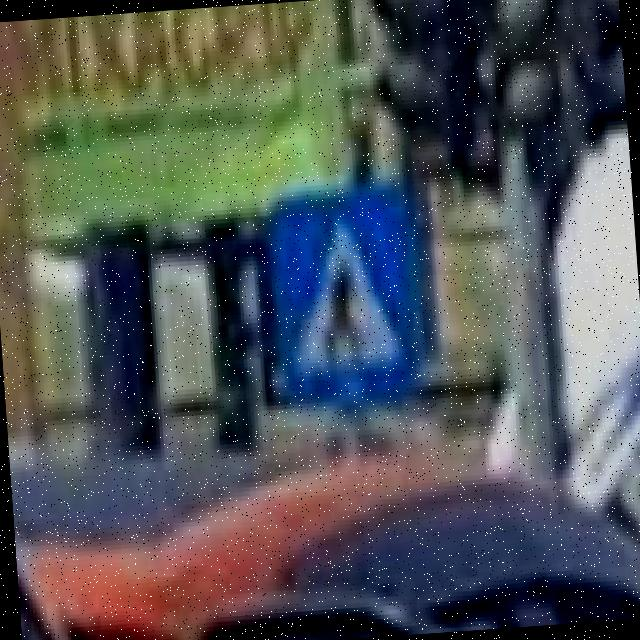Przejscie dla pieszych: (268, 178, 424, 396)
